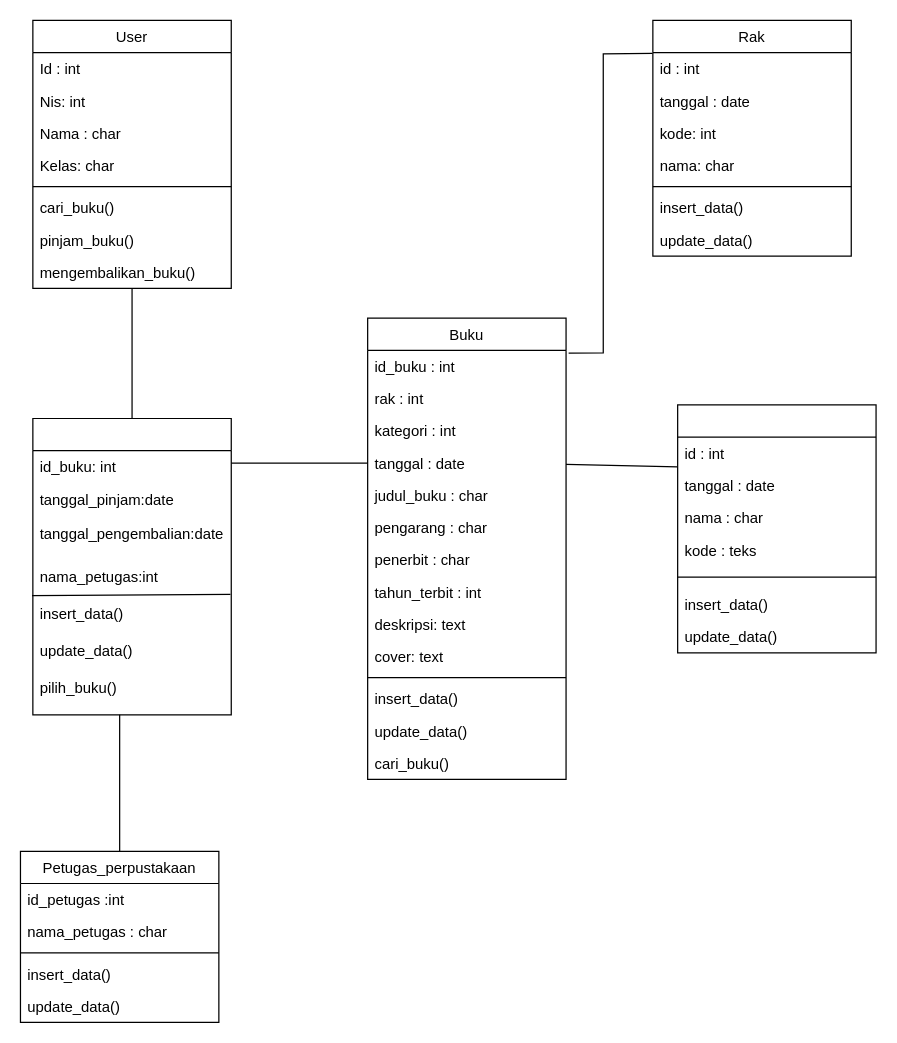
Some shapes in this 897 by 1043 pixel diagram are drawn without their labels. Here are the shapes that lost their labels. From the top down, the box of each, then its label:
(676, 404, 876, 653): Kategori
(32, 417, 231, 715): Pinjam_buku
